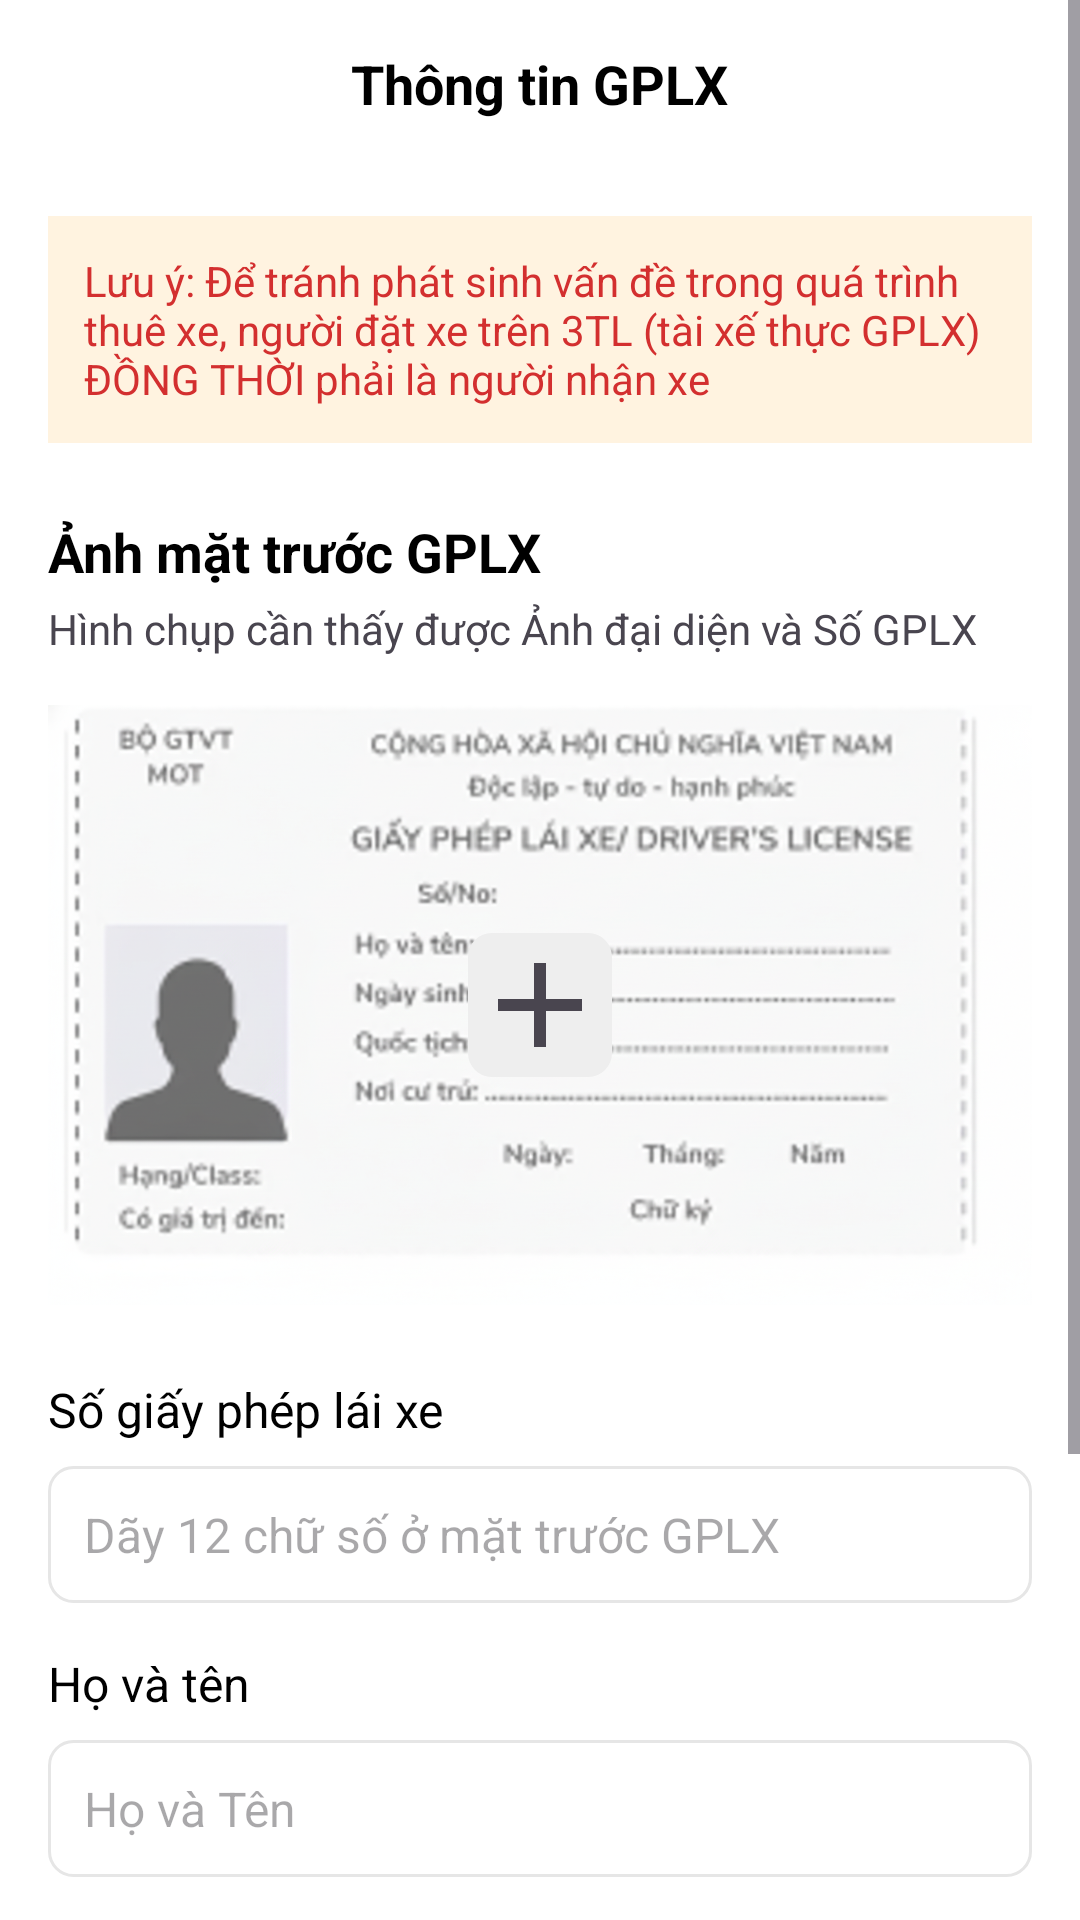

Named icons in this screenshot (1080 x 1920) and their bounding boxes, (x1, y1, x2, y2):
plus: (468, 933, 612, 1077)
